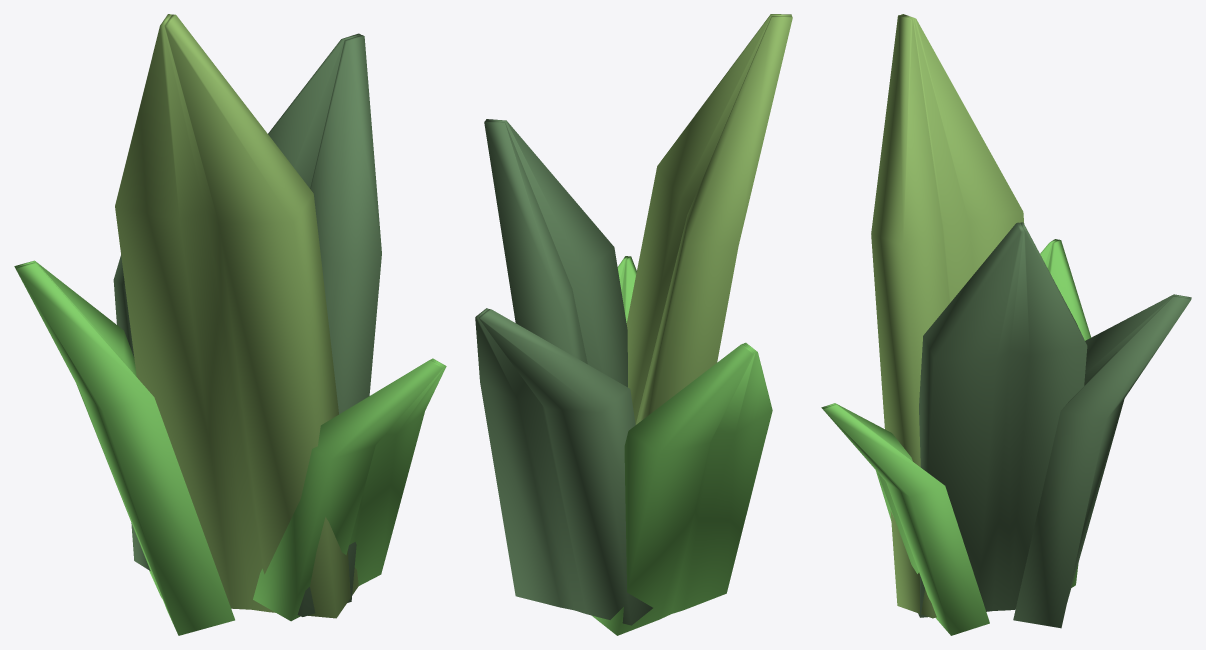
File: grass_03.fbx
The picture shows the model from 3 angles, left to right: view 1: azimuth 30°, elevation 25°; view 2: azimuth 150°, elevation 25°; view 3: azimuth 270°, elevation 25°; orthographic projection. The views are drawn at different scales.
Parts seen in each view (by area): view 1: GrassClump01.004; view 2: GrassClump01.004; view 3: GrassClump01.004.
Boxes of the visible parts, bbox=[...] form: GrassClump01.004: bbox=[14, 14, 446, 635]; GrassClump01.004: bbox=[475, 14, 792, 635]; GrassClump01.004: bbox=[821, 14, 1191, 635].
Size of the model in its own units: 46.62 by 88.08 by 55.23.
